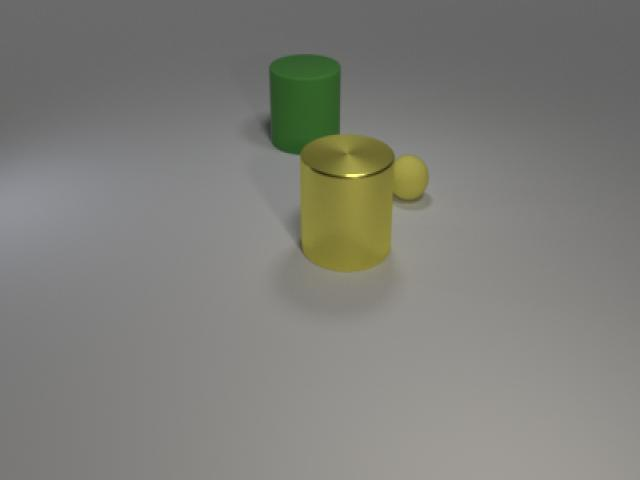cylinder: (290, 127, 402, 277), (262, 45, 347, 157)
round ball: (386, 150, 434, 204)
